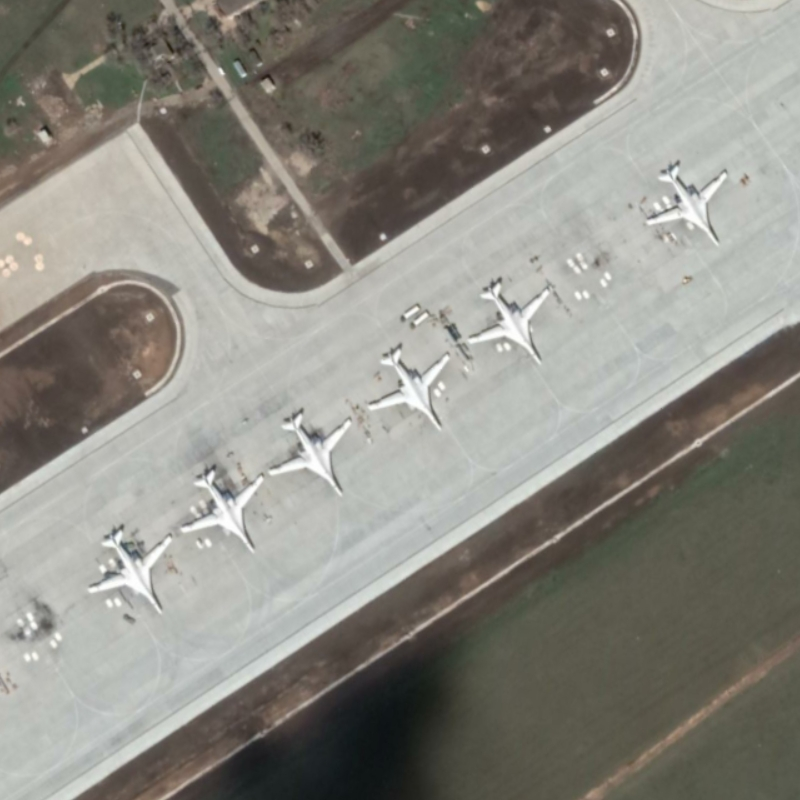A6: (364, 341, 457, 436), (463, 277, 559, 369), (266, 404, 357, 501), (177, 459, 268, 556), (85, 522, 176, 618), (641, 158, 733, 251)
